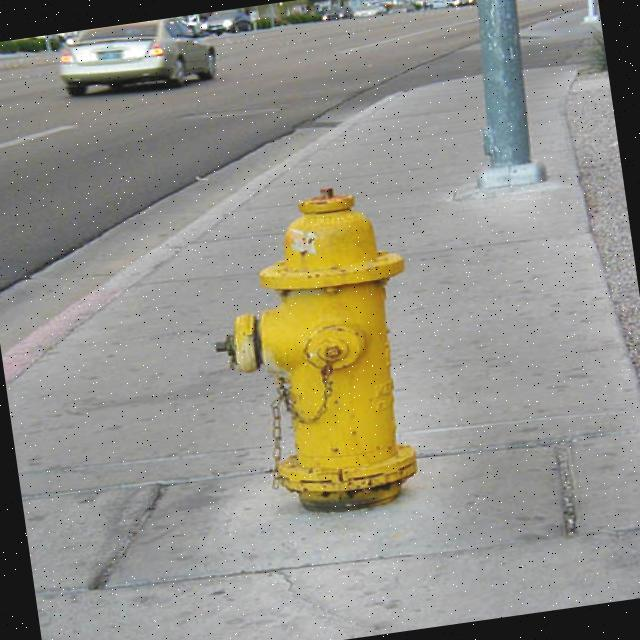fire_hydrant: (191, 175, 443, 530)
